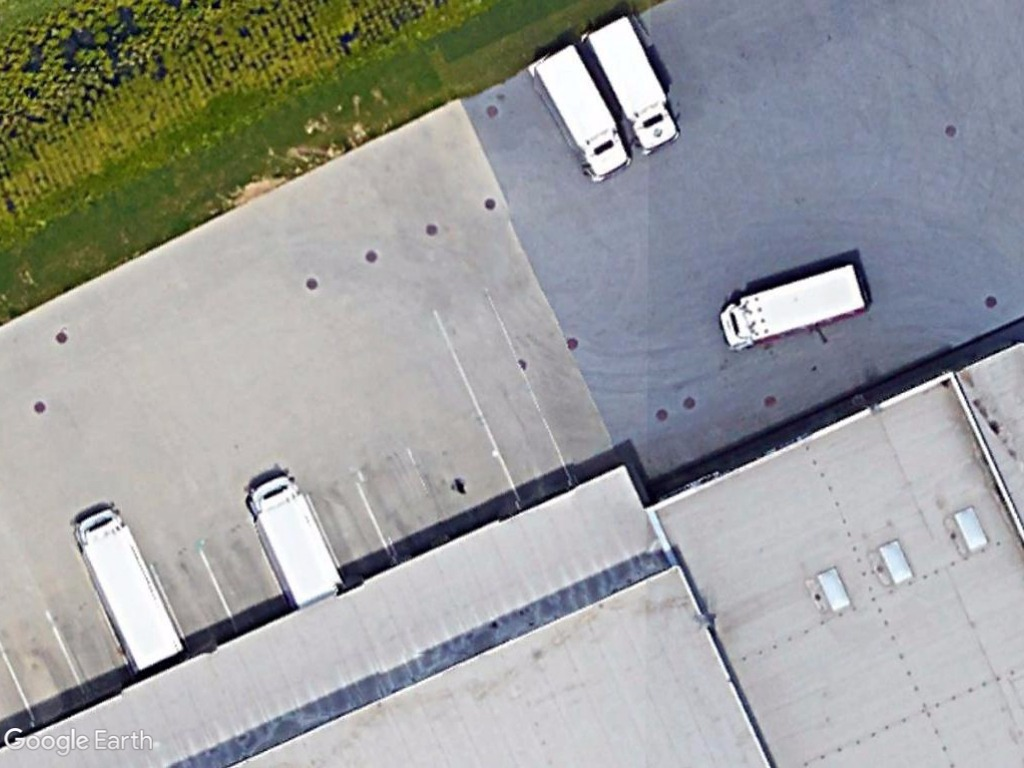truck: (70, 503, 188, 680), (525, 39, 636, 182), (714, 256, 870, 353), (582, 10, 683, 157), (242, 473, 344, 608)
